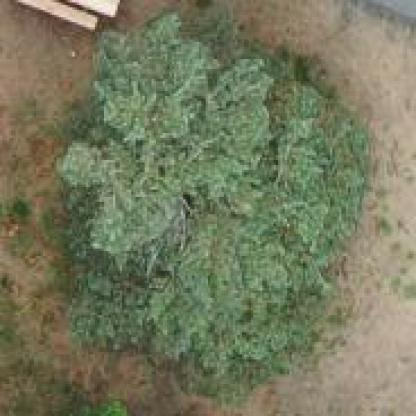Coniferous Tree: (63, 24, 348, 376)
